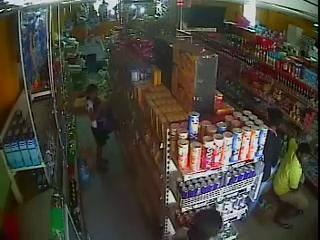shoplifting: (83, 82, 141, 175)
